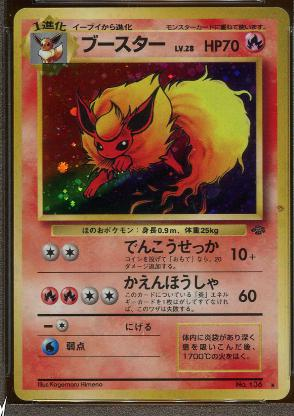Card: (12, 6, 290, 400)
Scratch: (275, 204, 283, 212)
